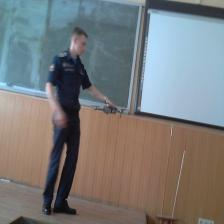drone: (89, 96, 127, 121)
